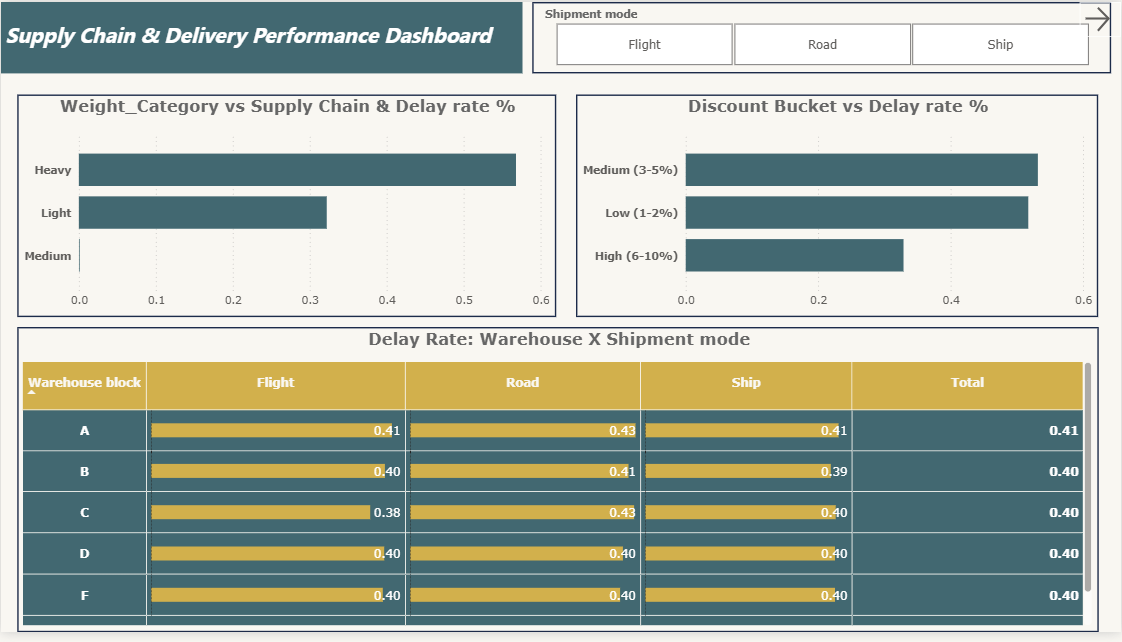

This screenshot's page, from the dashboard's own definition file:
{"tool":"powerbi","page":{"name":"Delay understanding","canvas":[1280,720],"ordinal":1},"visuals":[{"type":"slicer","fields":{"Values":["Shipments.Shipment mode"]},"box":[607.1,0,661.4,81.4],"z":0},{"type":"barChart","title":"Weight_Category vs  Supply Chain & Delay rate %","fields":{"Y":["Shipments.Delay Rate %"],"Category":["Shipments.Weight_Category"]},"box":[18.6,105.7,615.7,254.3],"z":1000},{"type":"clusteredBarChart","title":"Discount Bucket vs Delay rate %","fields":{"Y":["Shipments.Delay Rate %"],"Category":["Shipments.Discount Bucket"]},"box":[657.1,105.7,597.1,254.3],"z":2000},{"type":"pivotTable","title":"Delay Rate: Warehouse  X Shipment mode","fields":{"Rows":["Shipments.Warehouse block"],"Columns":["Shipments.Shipment mode"],"Values":["Shipments.Delay Rate %"]},"box":[18.6,371.4,1235.7,348.6],"z":3000},{"type":"textbox","box":[0,0,595.7,81.4],"z":4000},{"type":"actionButton","box":[1232.9,0,47.1,40],"z":5000}]}

Visuals, with their boxes in screenshot pixels (x1, y1, x2, y2), scaled from the page's 1280x720 canvas onto the 1122x642 screenshot:
slicer - Shipments.Shipment mode: x1=532, y1=0, x2=1112, y2=73
"Weight_Category vs  Supply Chain & Delay rate %" barChart: x1=16, y1=94, x2=556, y2=321
"Discount Bucket vs Delay rate %" clusteredBarChart: x1=576, y1=94, x2=1099, y2=321
"Delay Rate: Warehouse  X Shipment mode" pivotTable: x1=16, y1=331, x2=1099, y2=641
textbox: x1=0, y1=0, x2=522, y2=73
actionButton: x1=1081, y1=0, x2=1121, y2=36
